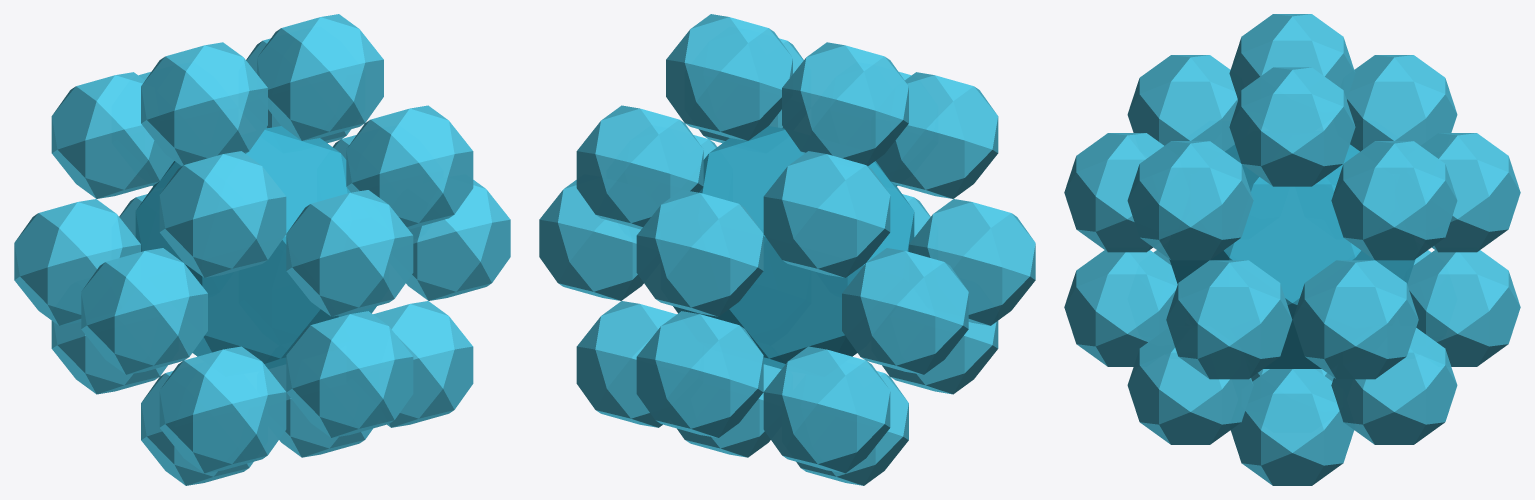
File: fractalicosidodecahedron1.glb
The picture shows the model from 3 angles, left to right: view 1: azimuth 30°, elevation 25°; view 2: azimuth 150°, elevation 25°; view 3: azimuth 270°, elevation 25°; orthographic projection. The views are drawn at different scales.
Size of the model in its own units: 10.23 by 10.23 by 10.23.
